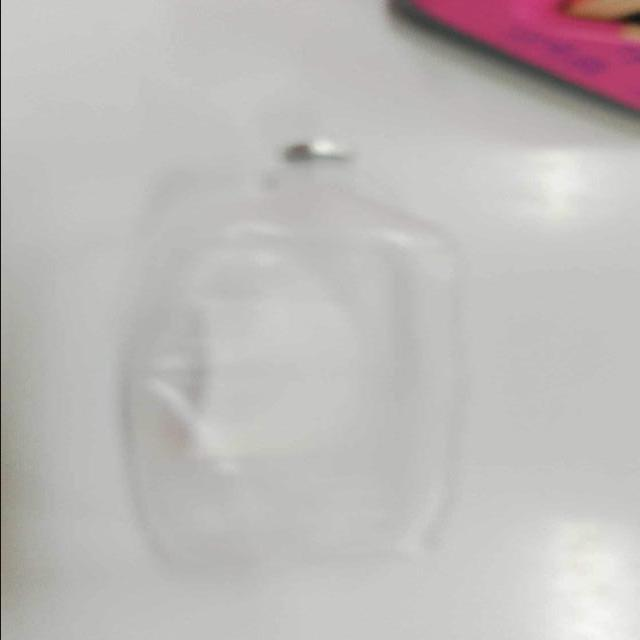Infectious: (122, 153, 473, 573)
Sharps: (394, 2, 640, 117), (283, 138, 352, 165)
